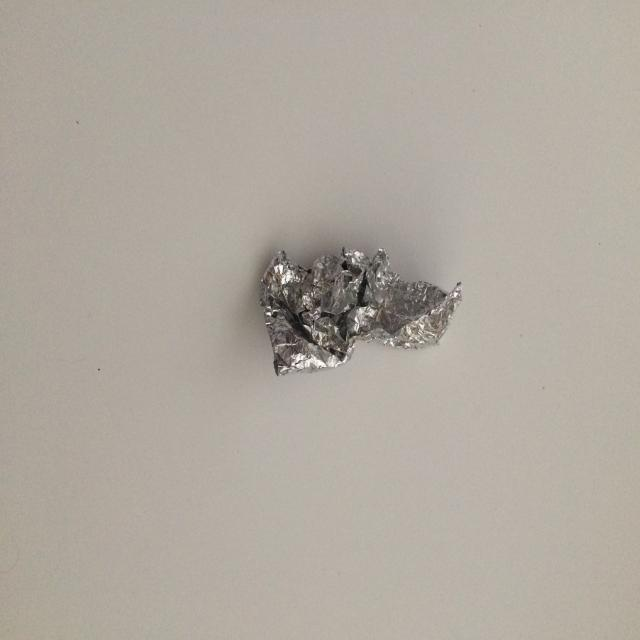metal: (259, 245, 463, 376)
